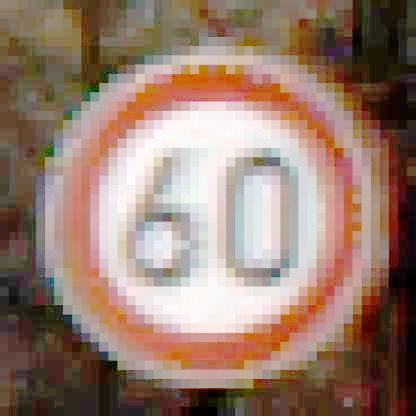Speed Limit -60-: (43, 48, 375, 384)
